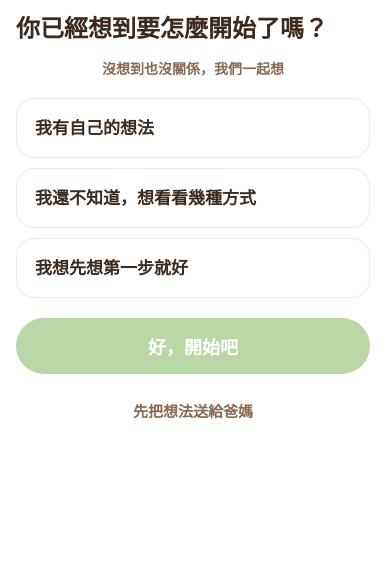
§7 開場只問一題 › 只有「我有自己的想法」才追問怎麼做
Click the radio button with test id "planning-opening-want_options" at (193, 198), box [16, 168, 370, 228]
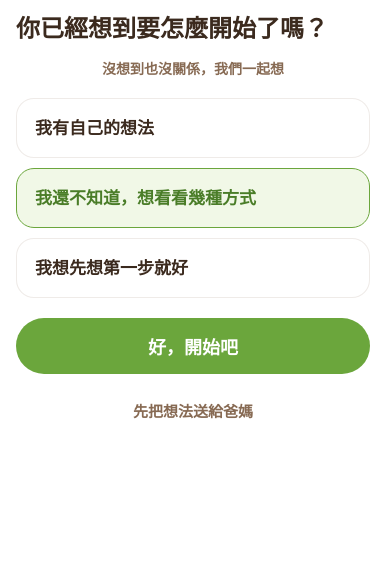
Click the radio button with test id "planning-opening-has_own_idea" at (193, 128), box [16, 98, 370, 158]
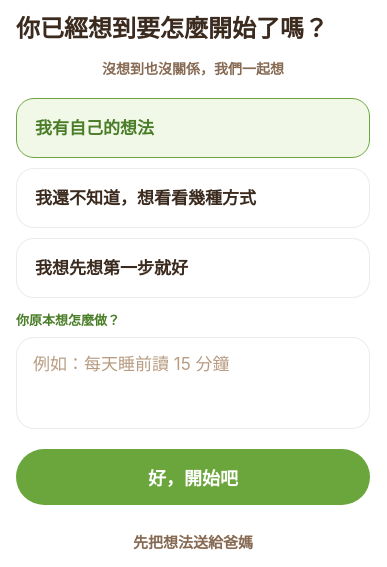
Result: the text box with test id "planning-approach-input" is shown at [16, 337, 370, 429]
